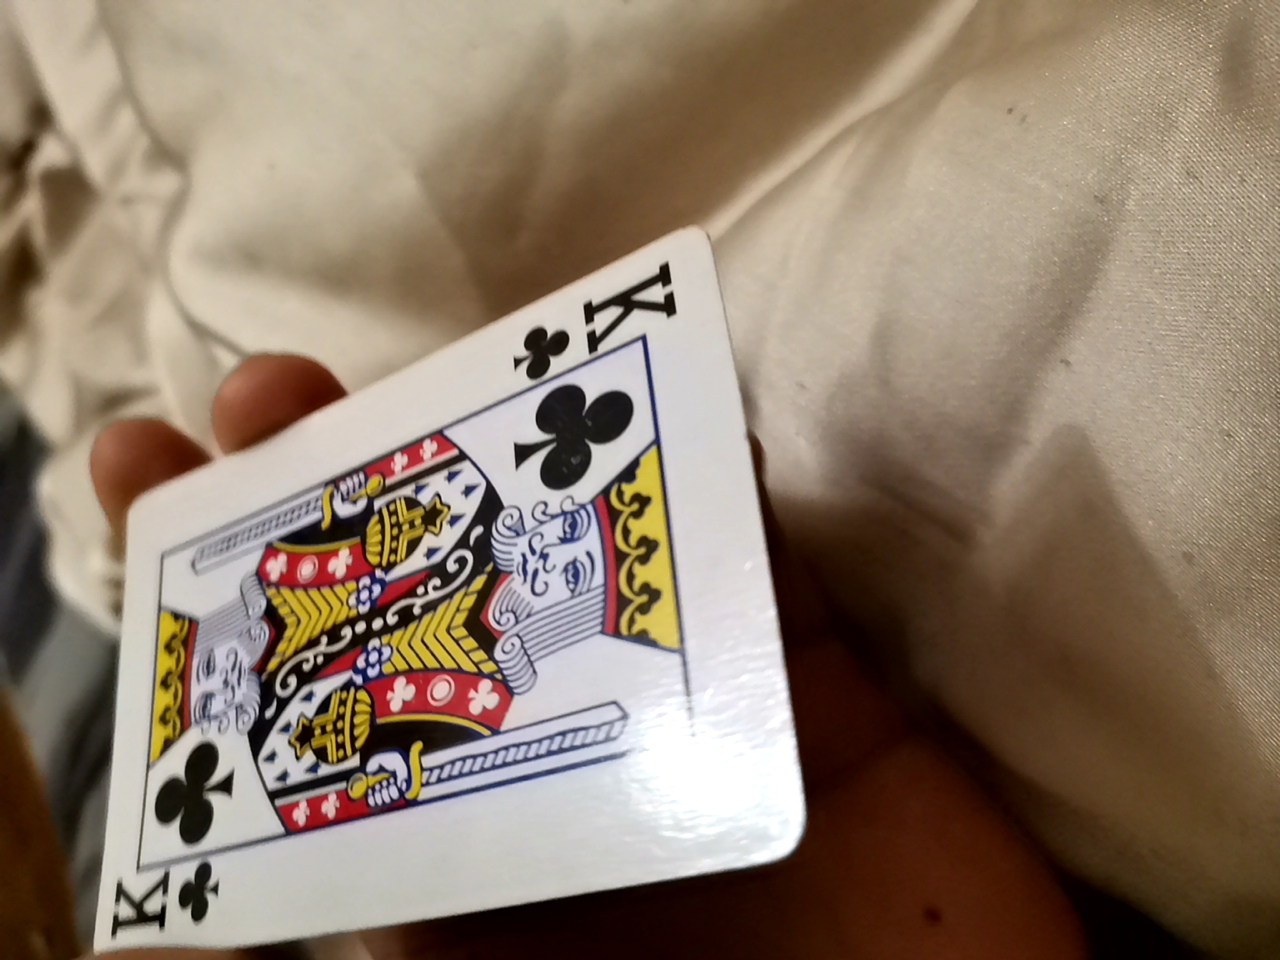mh k: (77, 278, 844, 949)
